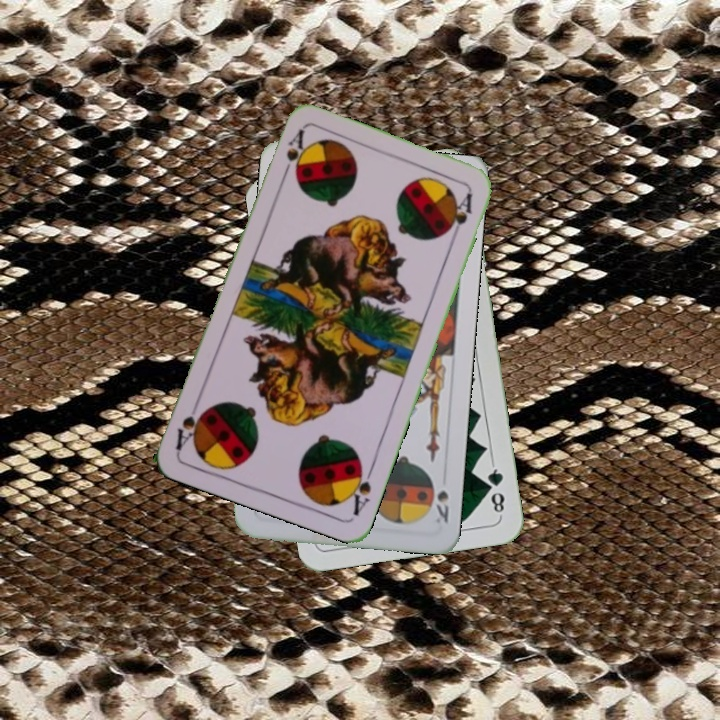G8: (482, 459, 508, 518)
SA: (343, 459, 377, 519), (277, 126, 307, 183)
SK: (431, 486, 451, 526)
